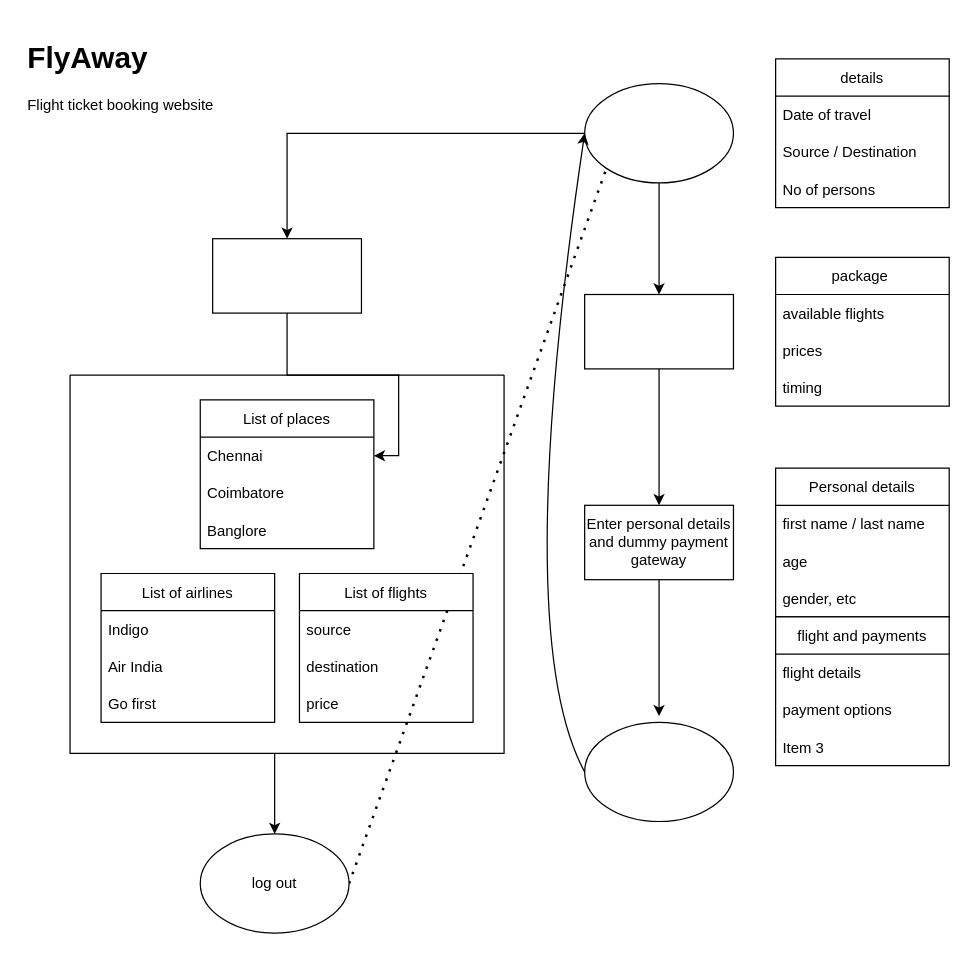
The diagram is 971 pixels wide and 955 high, and some of its shapes have lost their labels. The centre of each missing label's shape, as x and y in pixels:
"admin login page" belongs at [286,275].
"Enter flight details / flight details page" belongs at [658,331].
"home page" belongs at [658,132].
"payment confirmation" belongs at [658,771].
